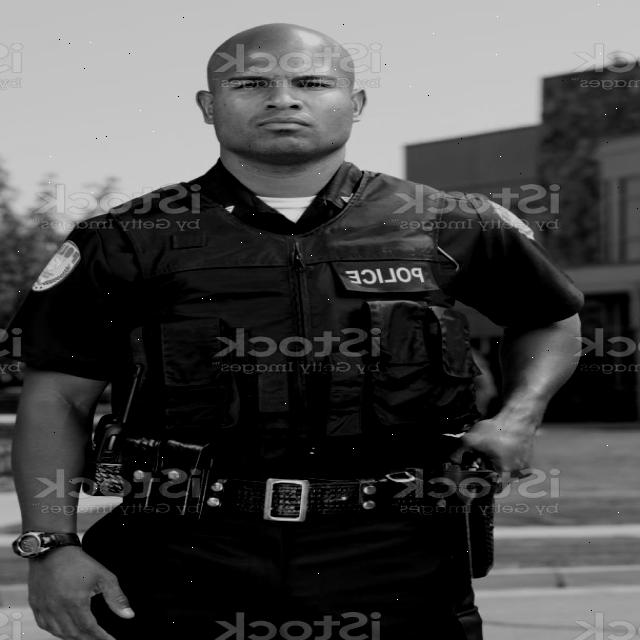police: (5, 1, 594, 640)
